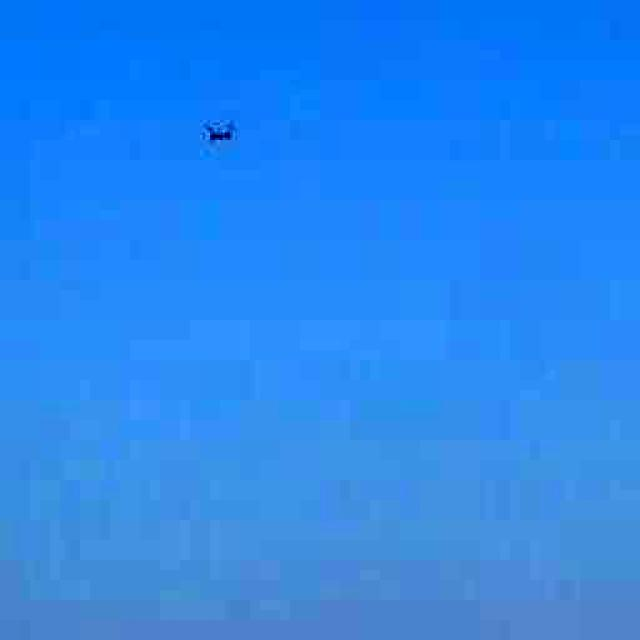bird: (185, 106, 255, 156)
